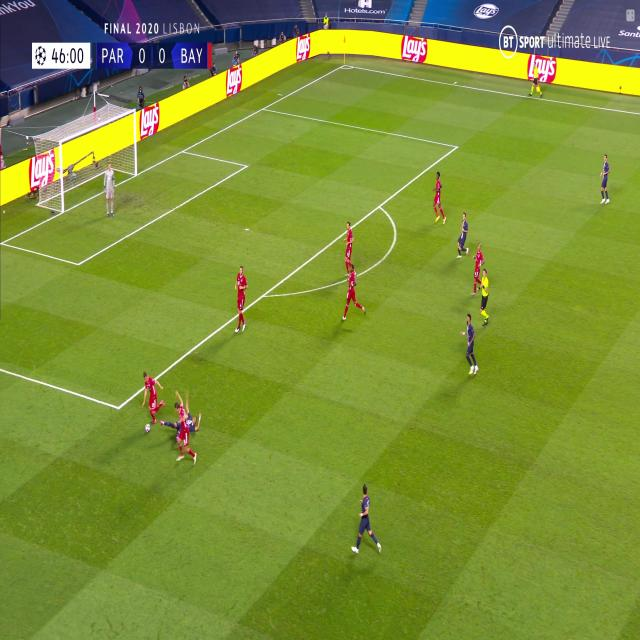ball: (145, 422, 151, 434)
player: (349, 483, 382, 558), (174, 392, 196, 468), (340, 263, 366, 326), (160, 406, 202, 442), (141, 371, 165, 429), (459, 312, 479, 376), (234, 263, 248, 336), (341, 223, 357, 285), (102, 162, 116, 220), (470, 242, 485, 295), (432, 170, 446, 225), (478, 268, 491, 326), (598, 153, 612, 206), (456, 211, 470, 260), (529, 60, 543, 100)
